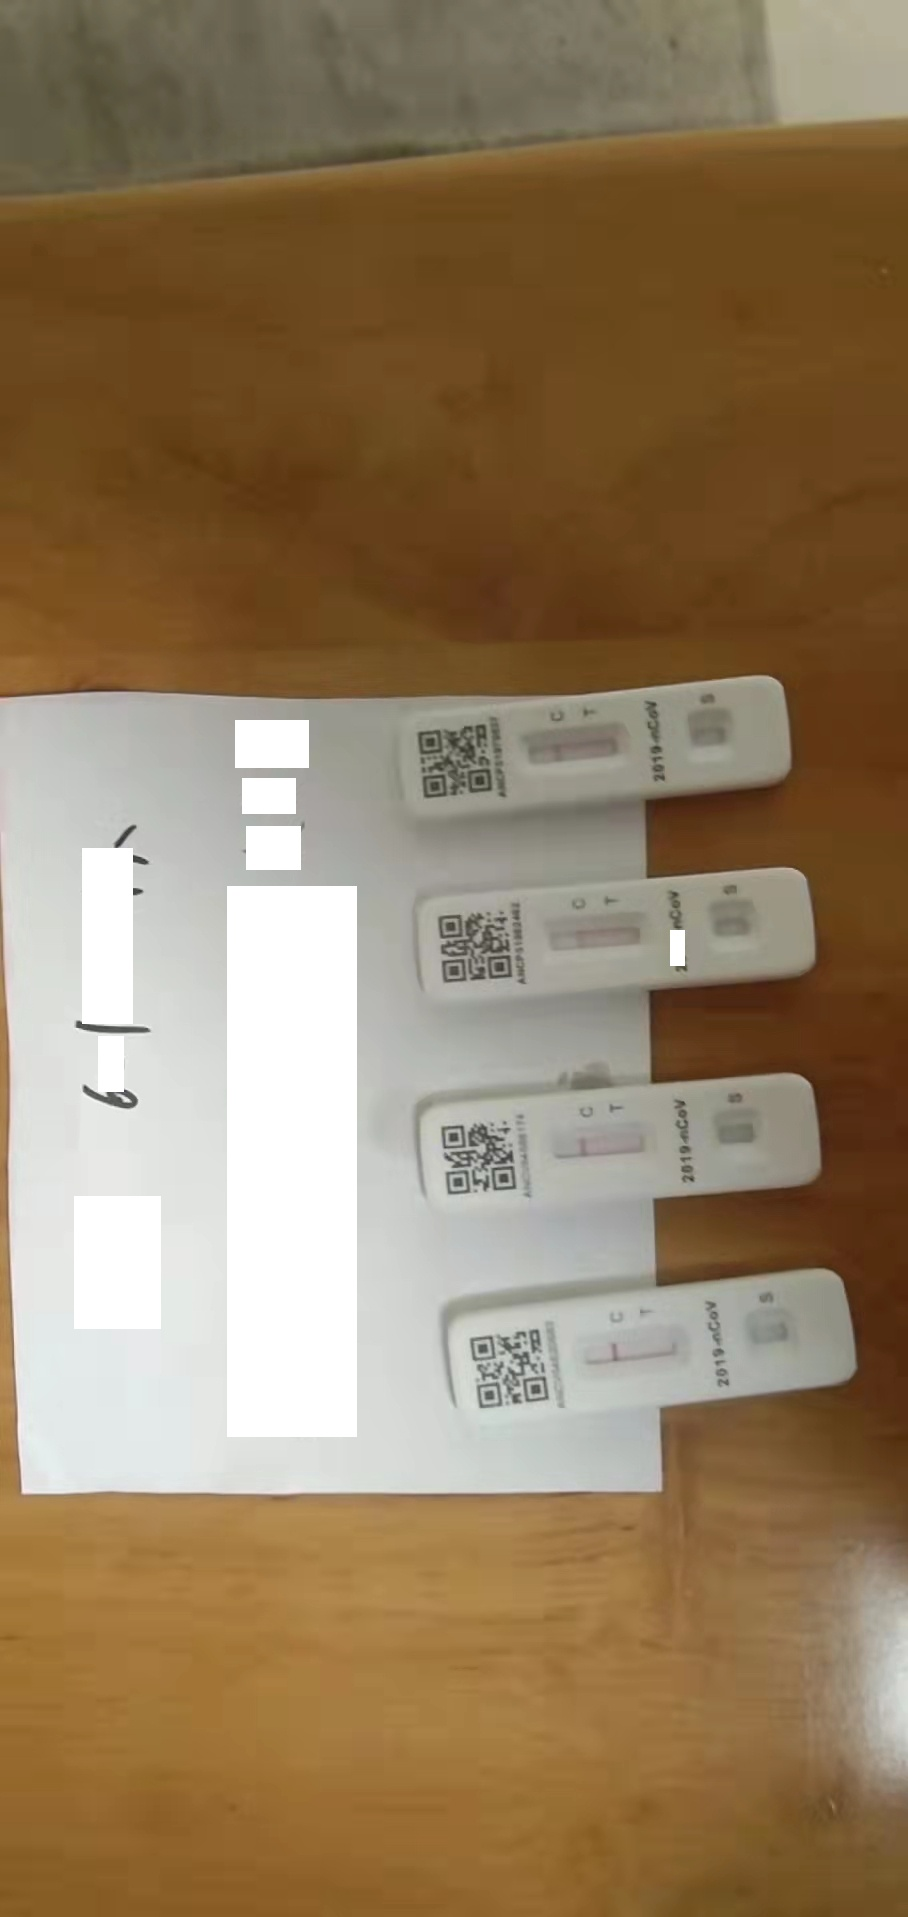negative: (523, 727, 632, 770), (540, 918, 654, 958), (576, 1335, 688, 1374), (544, 1125, 650, 1161)
